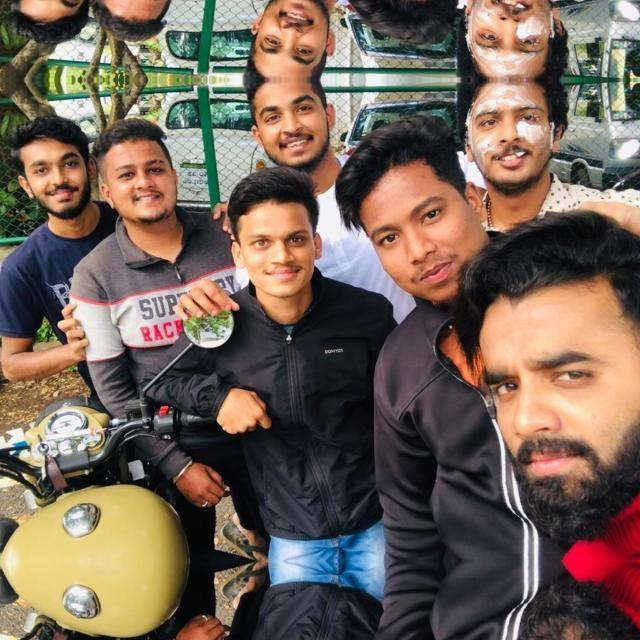person: (464, 234, 636, 526), (346, 122, 480, 494), (211, 174, 353, 516), (87, 117, 199, 373), (0, 112, 100, 392), (439, 80, 589, 228), (236, 78, 360, 180), (439, 0, 589, 78), (236, 0, 359, 79), (463, 595, 636, 640), (211, 605, 353, 640), (346, 0, 480, 36), (87, 0, 199, 41), (0, 0, 100, 45), (346, 625, 480, 640)
